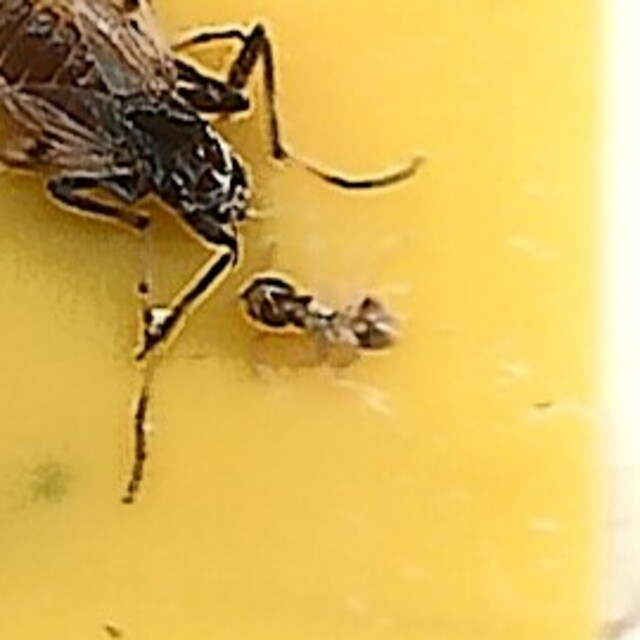Isoptera: (237, 257, 403, 383)
